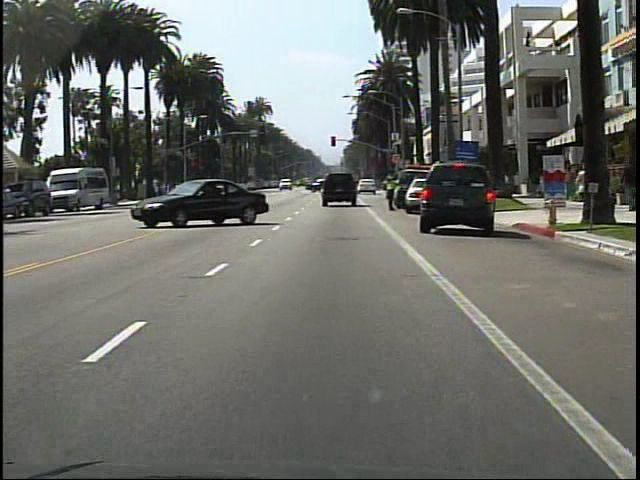person: (615, 155, 637, 214), (574, 161, 593, 217), (384, 171, 402, 218)
